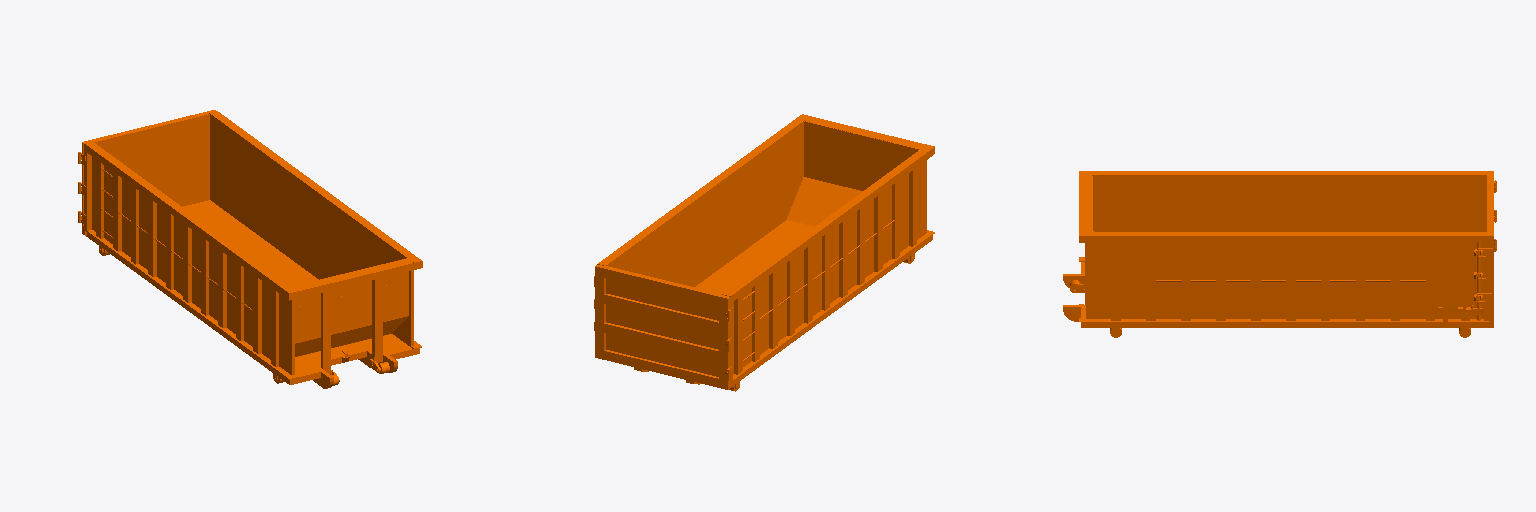
Rendered from 30YardRecDumpsterOrange.obj.
The picture shows the model from 3 angles: view 1: azimuth 30°, elevation 25°; view 2: azimuth 150°, elevation 25°; view 3: azimuth 270°, elevation 25°; orthographic projection.
Visible parts, largest first — view 1: Object.2; view 2: Object.2; view 3: Object.2.
Boxes of the visible parts, x1=… form: Object.2: x1=78, y1=110, x2=422, y2=388; Object.2: x1=594, y1=114, x2=934, y2=391; Object.2: x1=1063, y1=171, x2=1496, y2=337.
Bounding box in the file's own units: 45.32 × 32.29 × 121.